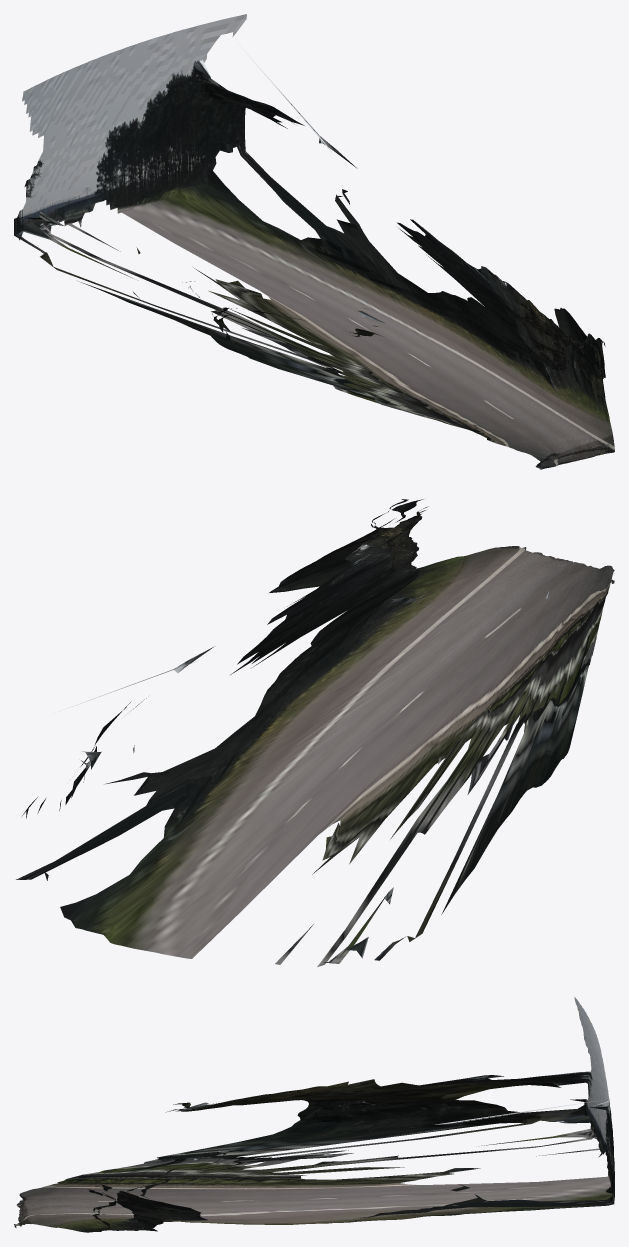
The picture shows the model from 3 angles, top to bottom: view 1: azimuth 30°, elevation 25°; view 2: azimuth 150°, elevation 25°; view 3: azimuth 270°, elevation 25°; orthographic projection. The views are drawn at different scales.
Visible parts, largest first — view 1: defaultobject; view 2: defaultobject; view 3: defaultobject.
Boxes of the visible parts, x1,y1,x2,y2 form: defaultobject: (14, 14, 614, 469); defaultobject: (16, 499, 614, 966); defaultobject: (14, 997, 614, 1232).
Size of the model in its own units: 21.81 by 11.67 by 44.52.
Materials: 1 (1 with a texture image).
